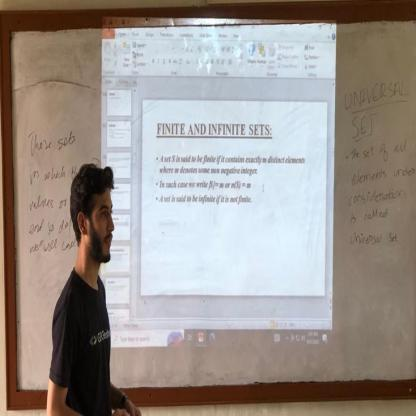Handwritten text: (342, 68, 407, 113), (23, 121, 83, 155), (343, 159, 416, 185), (344, 136, 411, 161), (347, 183, 405, 207), (348, 226, 400, 250), (27, 160, 71, 184), (342, 204, 391, 224), (24, 186, 57, 213), (350, 112, 379, 140), (26, 211, 58, 236)
Lecturer: (47, 144, 173, 403)
Whiteboard: (6, 14, 416, 395)
